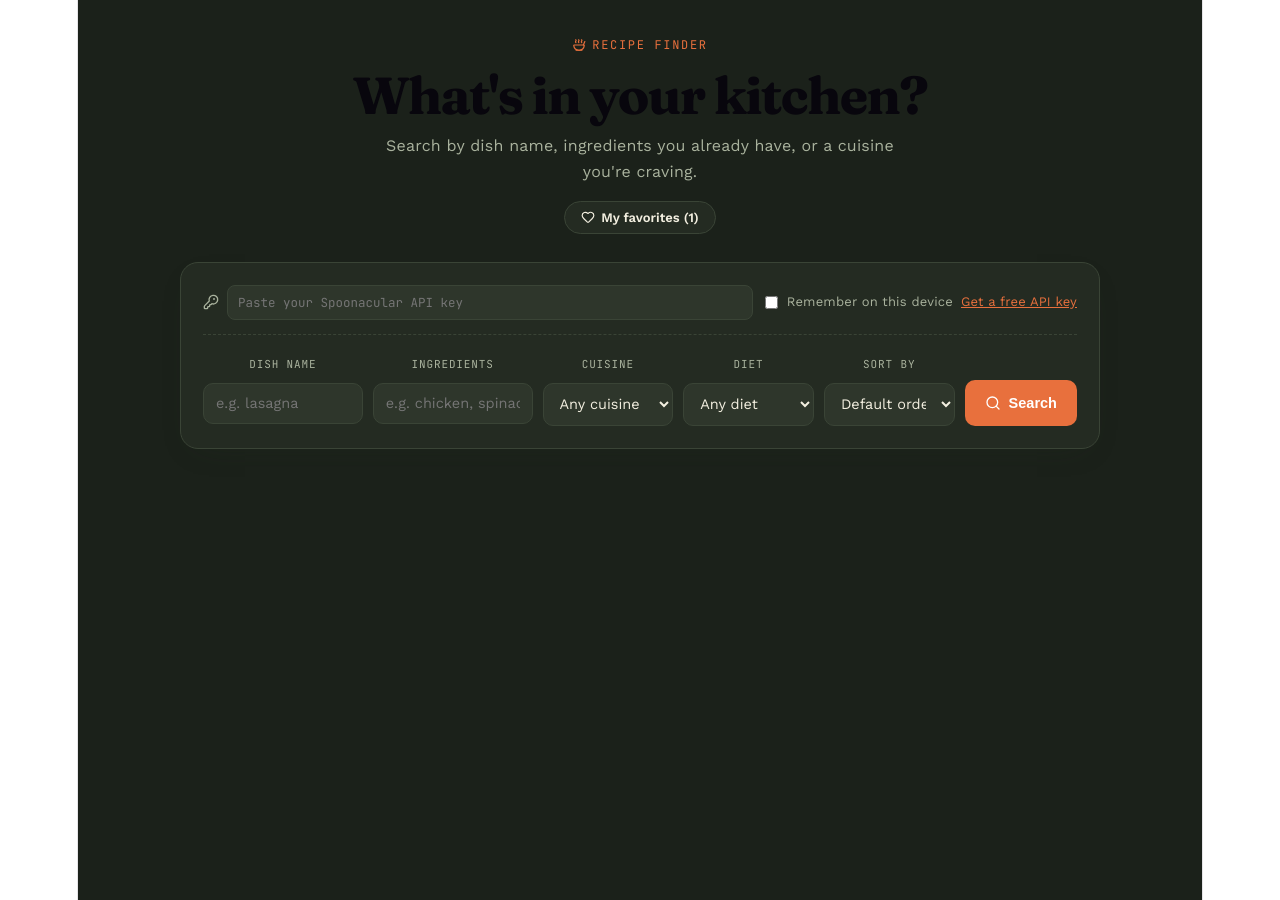
Test case: App (integration) › explains the missing api key when a favorite is opened without one
The image size is (1280, 900).
What coordinates should you click on to do the following:
click the button "My favorites (1)"
I would click on:
 (640, 217)
Its box is left=564, top=201, right=716, bottom=234.
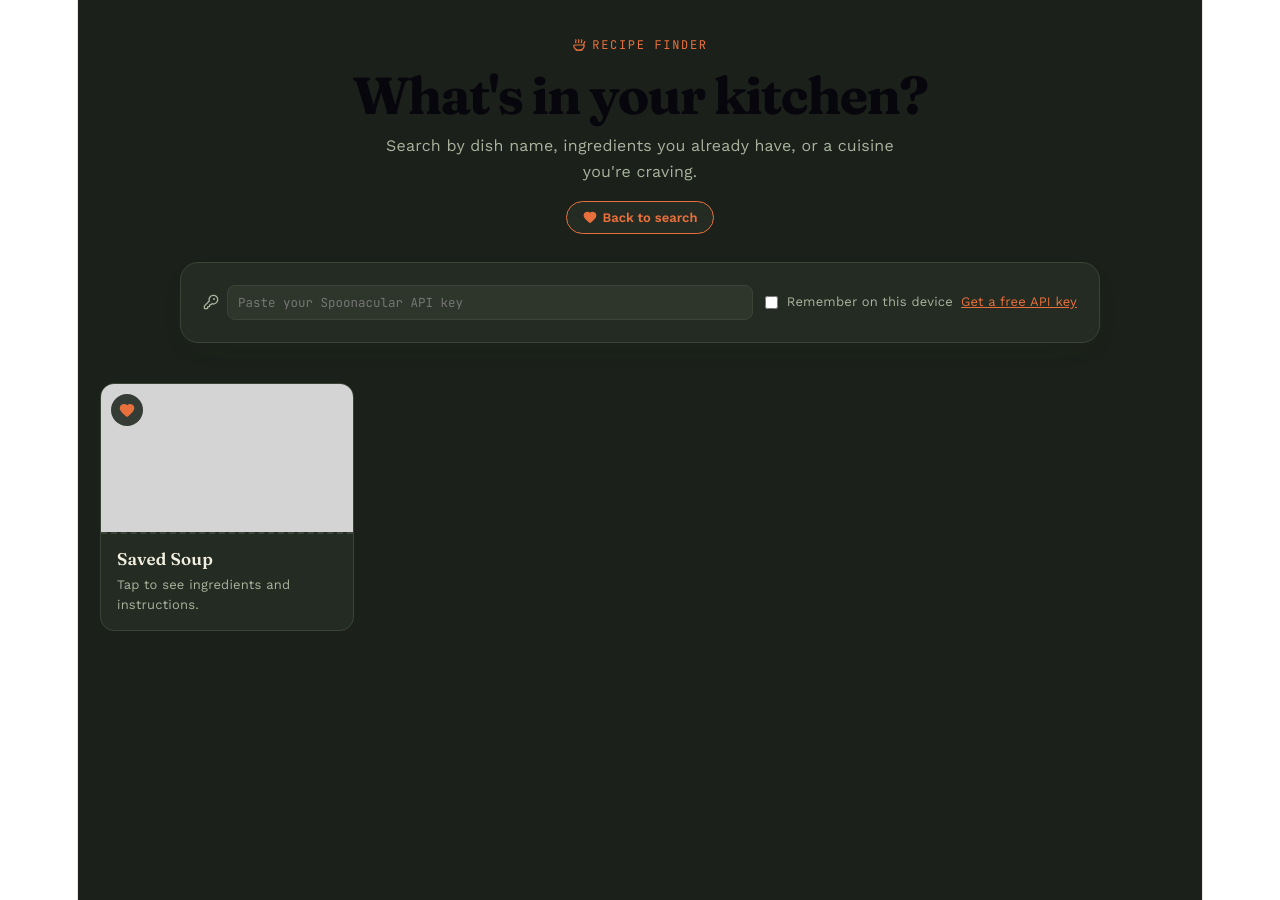
What coordinates should you click on to do the following:
click the button with class "rs-card"
I would click on:
 (227, 507)
Its box is left=100, top=383, right=354, bottom=631.
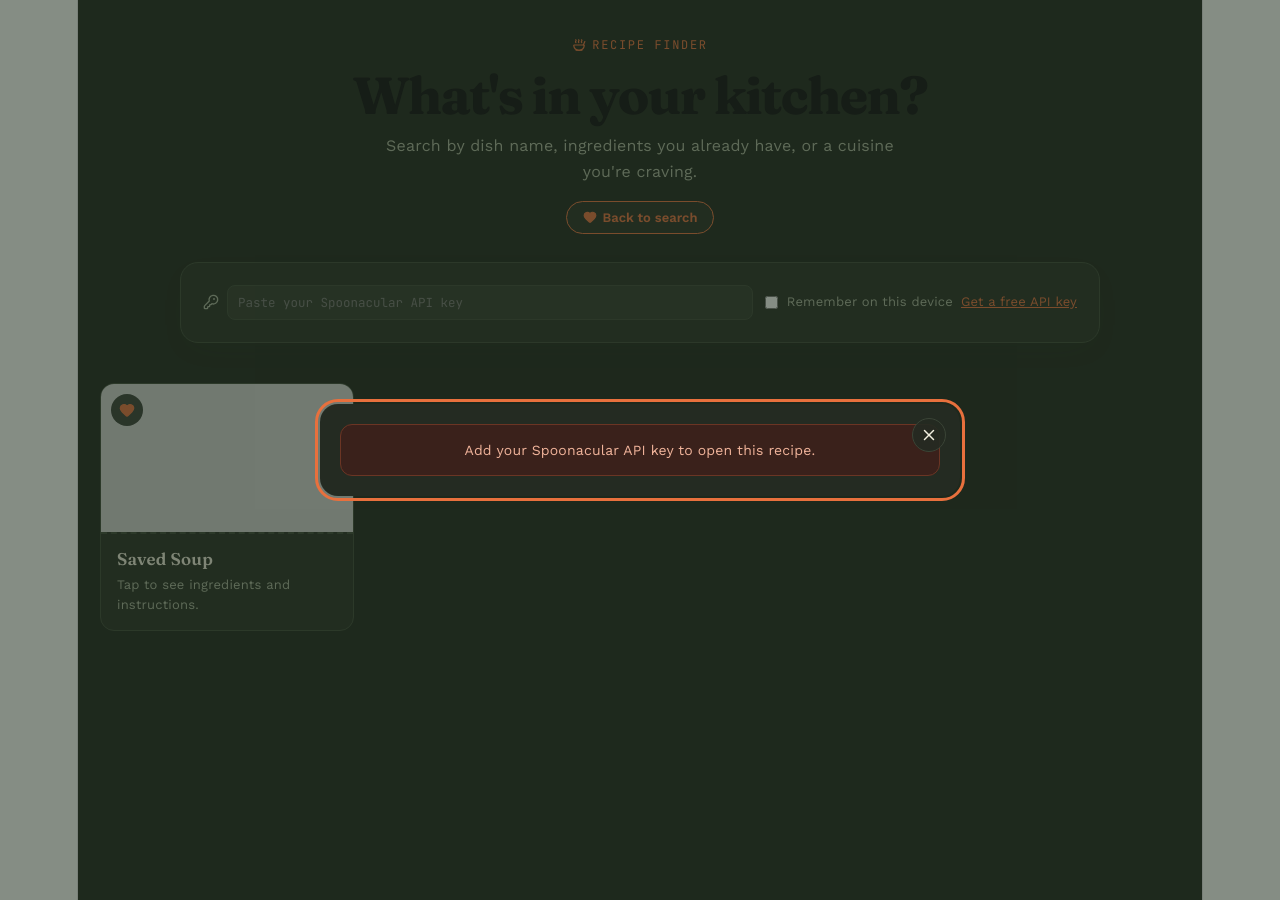
Result: the text "Add your Spoonacular API key to open this recipe." is shown at left=340, top=424, right=940, bottom=476
